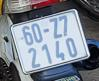0: (63, 36, 79, 59), (30, 20, 45, 44)
1: (39, 41, 55, 66)
2: (26, 45, 42, 70)
4: (51, 38, 67, 63)
6: (20, 24, 35, 47)
7: (57, 13, 73, 37)
Z: (47, 15, 63, 40)
